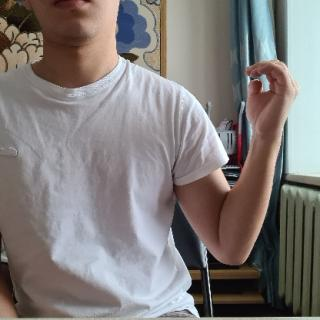JEEM: (238, 54, 300, 145)
